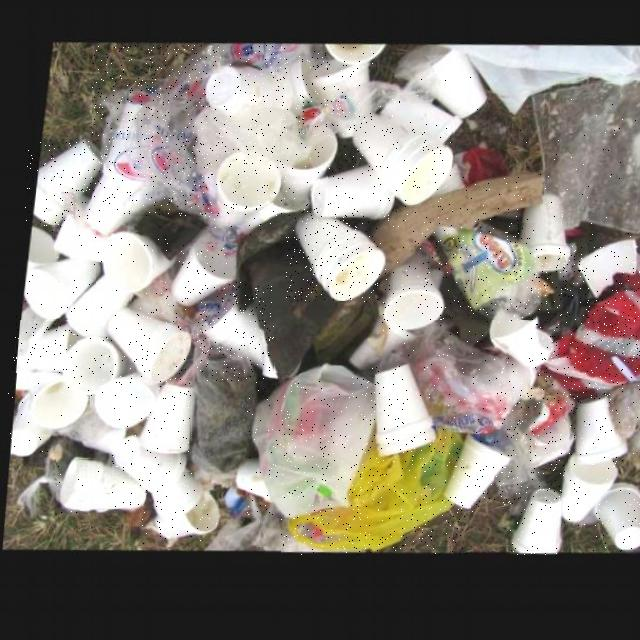paper: (360, 173, 539, 271)
plastic: (93, 45, 288, 216), (282, 430, 466, 554), (519, 82, 639, 245), (248, 373, 370, 517), (533, 258, 640, 407), (405, 322, 529, 437), (494, 368, 572, 511), (426, 223, 536, 319), (618, 383, 640, 457)
styrofoam: (343, 113, 446, 206), (287, 211, 380, 301), (198, 282, 274, 381), (100, 308, 186, 384), (25, 140, 96, 226), (370, 366, 433, 458), (197, 65, 287, 126), (205, 151, 276, 227), (297, 56, 360, 140), (405, 52, 479, 122), (19, 255, 98, 320), (58, 271, 130, 340), (441, 438, 509, 511), (303, 165, 390, 222), (377, 251, 437, 333), (57, 459, 144, 512), (97, 232, 170, 294), (514, 194, 566, 277), (275, 126, 328, 206), (142, 493, 217, 548), (165, 243, 229, 307), (135, 382, 191, 455), (91, 371, 159, 429), (12, 312, 77, 372), (372, 98, 453, 145), (485, 311, 548, 371), (559, 459, 615, 526), (113, 439, 182, 493), (60, 337, 122, 395), (47, 198, 103, 262), (571, 242, 630, 301), (25, 370, 84, 429), (572, 400, 623, 468), (592, 488, 640, 554), (511, 493, 558, 556), (229, 194, 301, 235), (8, 393, 51, 456), (149, 472, 199, 518), (313, 46, 378, 66), (21, 226, 52, 265)
